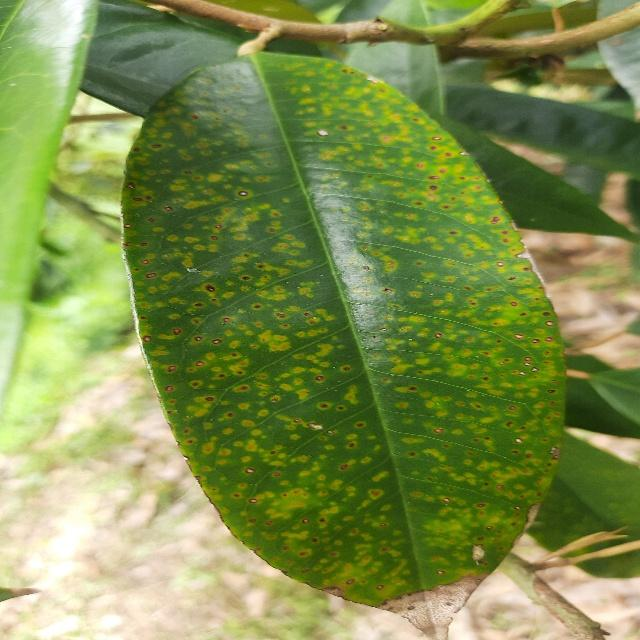Leaf Spot: (119, 43, 571, 640)
